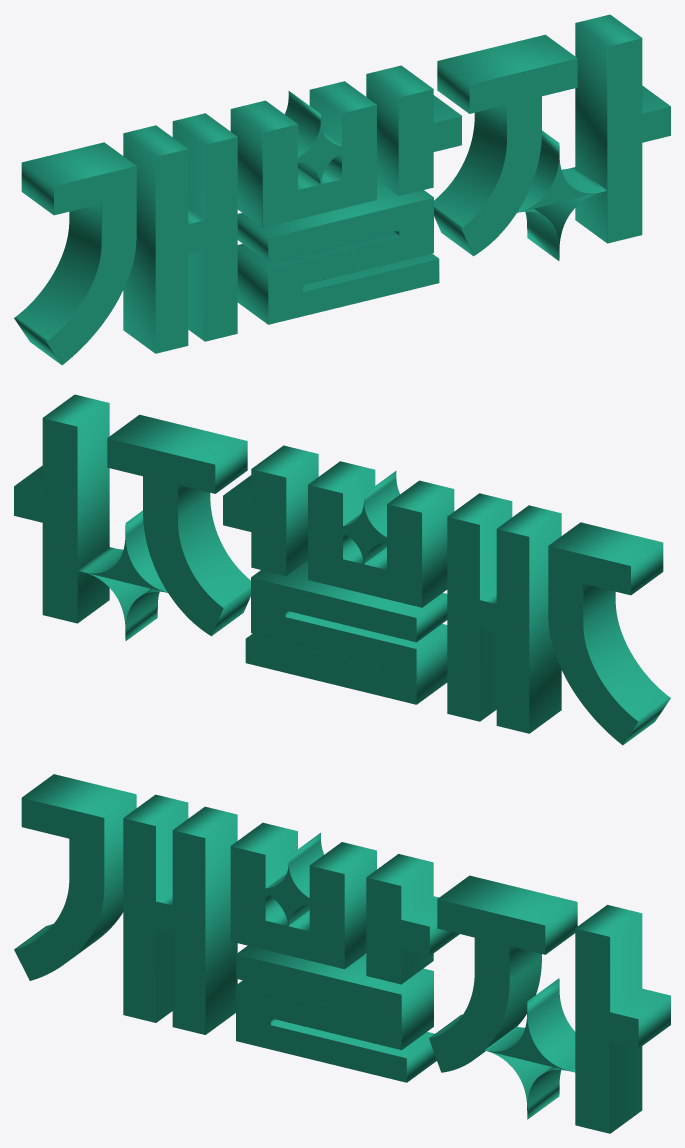
Rendered from developer.glb.
3 renders of one model, top to bottom at view 1: azimuth 30°, elevation 25°; view 2: azimuth 150°, elevation 25°; view 3: azimuth 330°, elevation 25°, orthographic.
Parts seen in each view (by area): view 1: Text.003; view 2: Text.003; view 3: Text.003.
Part boxes in pixels (x1,y1,x2,y2): Text.003: (14, 14, 670, 365); Text.003: (14, 394, 670, 745); Text.003: (14, 774, 670, 1133).
Size of the model in its own units: 2.24 by 0.7056 by 0.201.
